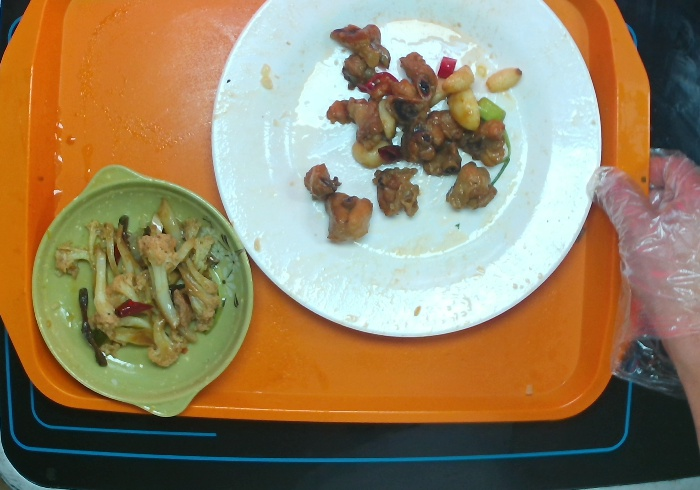NLDX-Da_Yuan_Pan: (206, 1, 605, 343)
NLDX-Lv_Hua_Shuang_Er_Die: (25, 161, 256, 424)
